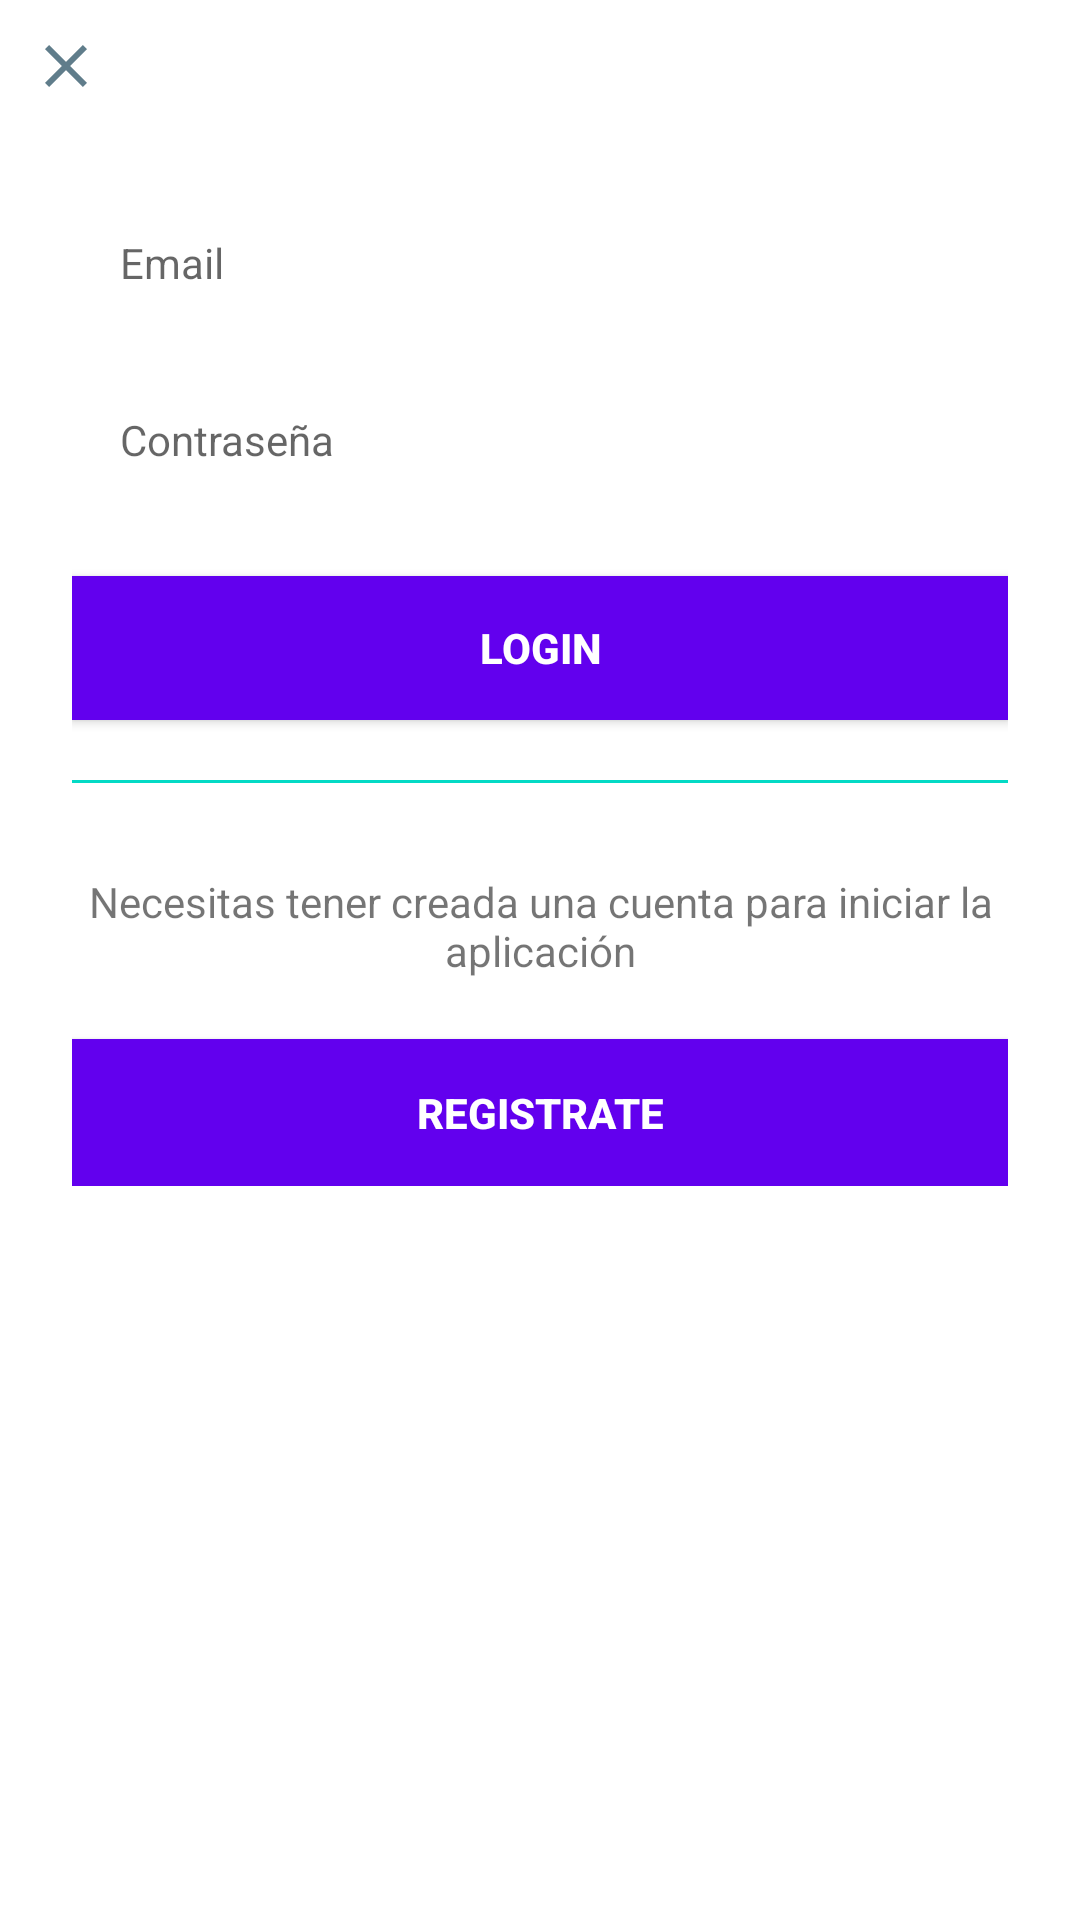

Named icons in this screenshot (1080w x 1920h) and their centers, (x=x, y=y):
window close: (x=66, y=66)
